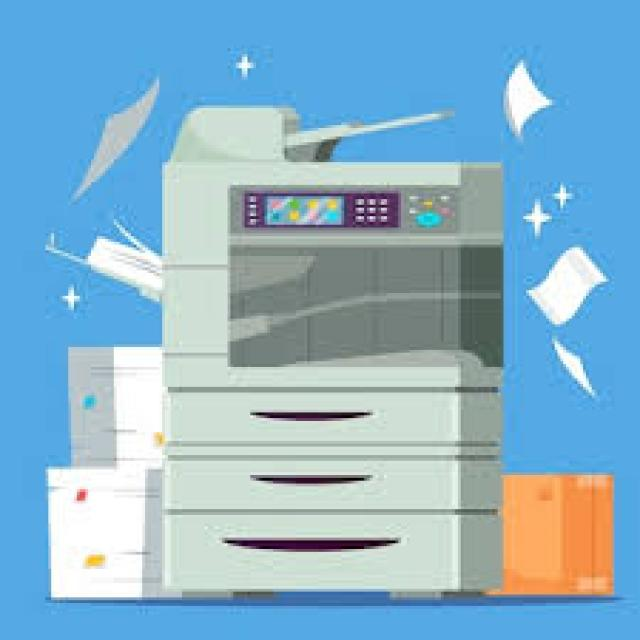printer: (156, 102, 506, 598)
